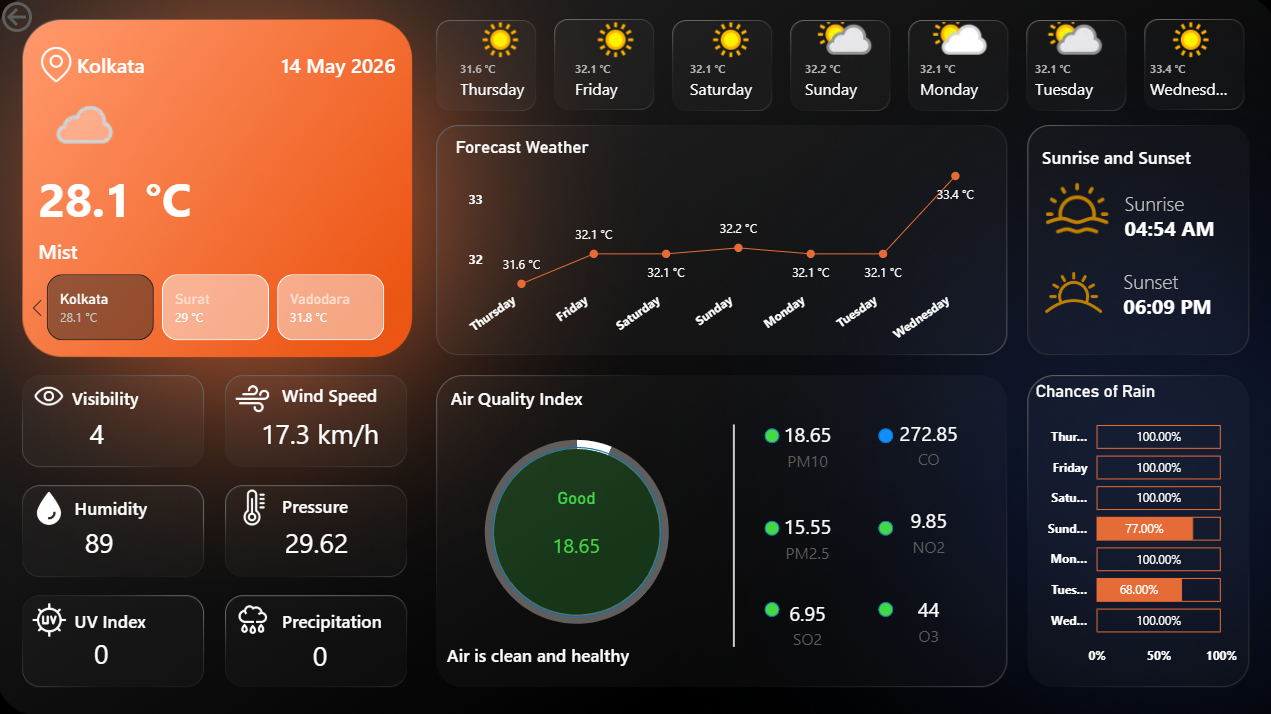

The dashboard page shown, as its layout file describes it:
{"tool":"powerbi","page":{"name":"Page 1","canvas":[1280,720],"ordinal":0},"visuals":[{"type":"advancedSlicerVisual","fields":{"Values":["Locations.location.name"]},"box":[24.7,273.1,389.7,76.8],"z":0},{"type":"shape","box":[41.2,168.8,244.3,64.5],"z":1000},{"type":"shape","box":[41.2,233.3,356.8,39.8],"z":2000},{"type":"shape","box":[79.6,48,122.1,39.8],"z":3000},{"type":"shape","box":[275.8,48,122.1,39.8],"z":4000},{"type":"image","box":[41.2,48,35.7,39.8],"z":5000},{"type":"cardVisual","fields":{"Data":["Min(Current.current.condition.icon)"]},"box":[18.6,88.5,117,79.9],"z":6000},{"type":"image","box":[35,377.5,33.8,43.8],"z":7000},{"type":"shape","box":[75,381.2,122.5,40],"z":8000},{"type":"image","box":[28.8,493.8,46.2,35],"z":9000},{"type":"image","box":[28.8,605,47.5,36.2],"z":10000},{"type":"image","box":[235,383.8,41.2,36.2],"z":11000},{"type":"image","box":[228.8,492.5,56.2,36.2],"z":12000},{"type":"image","box":[235,605,41.2,35],"z":13000},{"type":"shape","box":[285,488.8,122.5,40],"z":14000},{"type":"shape","box":[77.5,491.2,122.5,40],"z":15000},{"type":"shape","box":[285,377.5,122.5,40],"z":16000},{"type":"shape","box":[77.5,603.8,122.5,40],"z":17000},{"type":"shape","box":[285,603.8,122.5,40],"z":18000},{"type":"cardVisual","fields":{"Data":["Sum(Current.current.humidity)"]},"box":[58.8,511.2,91.2,65],"z":19000},{"type":"cardVisual","fields":{"Data":["_Measures.Wind_Speed"]},"box":[235,402.5,188.8,65],"z":20000},{"type":"cardVisual","fields":{"Data":["Sum(Current.current.pressure_in)"]},"box":[258.8,511.2,128.8,65],"z":21000},{"type":"cardVisual","fields":{"Data":["Sum(Current.current.precip_in)"]},"box":[260,623.8,126.2,65],"z":22000},{"type":"cardVisual","fields":{"Data":["Sum(Current.current.uv)"]},"box":[63.8,622.5,81.2,65],"z":23000},{"type":"cardVisual","fields":{"Data":["Sum(Current.current.vis_km)"]},"box":[63.8,402.5,91.2,65],"z":24000},{"type":"advancedSlicerVisual","fields":{"Values":["Forcast_Day.Day_name"]},"box":[445,18.8,813.8,101.2],"z":25000},{"type":"lineChart","title":"Forecast Weather","fields":{"Y":["Sum(Forcast_Day.forecast.forecastday.day.avgtemp_c)"],"Category":["Forcast_Day.Day_name"]},"box":[453.8,140,538.8,220],"z":26000},{"type":"shape","box":[1045,140,200,40],"z":27000},{"type":"shape","box":[1127.5,205,118.8,50],"z":28000},{"type":"shape","box":[1126.2,283.8,118.8,50],"z":29000},{"type":"shape","box":[1126.2,258.8,118.8,50],"z":30000},{"type":"shape","box":[1127.5,180,118.8,50],"z":31000},{"type":"image","box":[1033.8,180,92.5,62.5],"z":32000},{"type":"image","box":[1027.5,257.5,98.8,76.2],"z":33000},{"type":"hundredPercentStackedBarChart","title":"Chances of Rain","fields":{"Y":["Sum(Forcast_Day.forecast.forecastday.day.daily_chance_of_rain)","_Measures.Lefy_value_rain"],"Category":["Forcast_Day.Day_name"]},"box":[1033.8,383.8,211.2,293.8],"z":34000},{"type":"shape","box":[453.8,381.2,200,40],"z":35000},{"type":"actionButton","box":[0,0,100,40],"z":36000},{"type":"cardVisual","fields":{"Data":["Sum(Current.current.air_quality.co)"]},"box":[871.2,401.2,121.2,92.5],"z":37000},{"type":"cardVisual","fields":{"Data":["Sum(Current.current.air_quality.no2)"]},"box":[871.2,488.8,121.2,92.5],"z":38000},{"type":"cardVisual","fields":{"Data":["Sum(Current.current.air_quality.o3)"]},"box":[871.2,577.5,121.2,92.5],"z":39000},{"type":"cardVisual","fields":{"Data":["Sum(Current.current.air_quality.pm10)"]},"box":[750,402.5,121.2,92.5],"z":40000},{"type":"cardVisual","fields":{"Data":["Sum(Current.current.air_quality.pm2_5)"]},"box":[750,495,121.2,92.5],"z":41000},{"type":"cardVisual","fields":{"Data":["Sum(Current.current.air_quality.so2)"]},"box":[750,581.2,121.2,92.5],"z":42000},{"type":"shape","box":[767.5,431.2,15,15],"z":43000},{"type":"shape","box":[767.5,605,15,15],"z":44000},{"type":"shape","box":[767.5,523.8,15,15],"z":45000},{"type":"shape","box":[881.2,431.2,15,15],"z":46000},{"type":"shape","box":[881.2,523.8,15,15],"z":47000},{"type":"shape","box":[881.2,605,15,15],"z":48000},{"type":"shape","box":[723.8,427.5,26.2,222.5],"z":49000},{"type":"donutChart","fields":{"Y":["Sum(Current.current.air_quality.pm10)","_Measures.Left_Value_PM10"]},"box":[450,415,260,240],"z":49500},{"type":"cardVisual","fields":{"Data":["Sum(Current.current.air_quality.pm10)"]},"box":[518.8,491.2,121.2,92.5],"z":50000},{"type":"shape","box":[495,450,170,170],"z":52000},{"type":"shape","box":[450,627.5,260,60],"z":52001}]}

Visuals, with their boxes in screenshot pixels (x1, y1, x2, y2), scaled from the page's 1280x720 canvas onto the 1271x714 screenshot:
advancedSlicerVisual - Locations.location.name: l=25, t=271, r=411, b=347
shape: l=41, t=167, r=283, b=231
shape: l=41, t=231, r=395, b=271
shape: l=79, t=48, r=200, b=87
shape: l=274, t=48, r=395, b=87
image: l=41, t=48, r=76, b=87
cardVisual - Min(Current.current.condition.icon): l=18, t=88, r=135, b=167
image: l=35, t=374, r=68, b=418
shape: l=74, t=378, r=196, b=418
image: l=29, t=490, r=74, b=524
image: l=29, t=600, r=76, b=636
image: l=233, t=381, r=274, b=416
image: l=227, t=488, r=283, b=524
image: l=233, t=600, r=274, b=635
shape: l=283, t=485, r=405, b=524
shape: l=77, t=487, r=199, b=527
shape: l=283, t=374, r=405, b=414
shape: l=77, t=599, r=199, b=638
shape: l=283, t=599, r=405, b=638
cardVisual - Sum(Current.current.humidity): l=58, t=507, r=149, b=571
cardVisual - _Measures.Wind_Speed: l=233, t=399, r=421, b=464
cardVisual - Sum(Current.current.pressure_in): l=257, t=507, r=385, b=571
cardVisual - Sum(Current.current.precip_in): l=258, t=619, r=383, b=683
cardVisual - Sum(Current.current.uv): l=63, t=617, r=144, b=682
cardVisual - Sum(Current.current.vis_km): l=63, t=399, r=154, b=464
advancedSlicerVisual - Forcast_Day.Day_name: l=442, t=19, r=1250, b=119
"Forecast Weather" lineChart: l=451, t=139, r=986, b=357
shape: l=1038, t=139, r=1236, b=178
shape: l=1120, t=203, r=1238, b=253
shape: l=1118, t=281, r=1236, b=331
shape: l=1118, t=257, r=1236, b=306
shape: l=1120, t=178, r=1238, b=228
image: l=1027, t=178, r=1118, b=240
image: l=1020, t=255, r=1118, b=331
"Chances of Rain" hundredPercentStackedBarChart: l=1027, t=381, r=1236, b=672
shape: l=451, t=378, r=649, b=418
actionButton: l=0, t=0, r=99, b=40
cardVisual - Sum(Current.current.air_quality.co): l=865, t=398, r=985, b=490
cardVisual - Sum(Current.current.air_quality.no2): l=865, t=485, r=985, b=576
cardVisual - Sum(Current.current.air_quality.o3): l=865, t=573, r=985, b=664
cardVisual - Sum(Current.current.air_quality.pm10): l=745, t=399, r=865, b=491
cardVisual - Sum(Current.current.air_quality.pm2_5): l=745, t=491, r=865, b=583
cardVisual - Sum(Current.current.air_quality.so2): l=745, t=576, r=865, b=668
shape: l=762, t=428, r=777, b=442
shape: l=762, t=600, r=777, b=615
shape: l=762, t=519, r=777, b=534
shape: l=875, t=428, r=890, b=442
shape: l=875, t=519, r=890, b=534
shape: l=875, t=600, r=890, b=615
shape: l=719, t=424, r=745, b=645
donutChart - Sum(Current.current.air_quality.pm10) x _Measures.Left_Value_PM10: l=447, t=412, r=705, b=650
cardVisual - Sum(Current.current.air_quality.pm10): l=515, t=487, r=636, b=579
shape: l=492, t=446, r=660, b=615
shape: l=447, t=622, r=705, b=682
